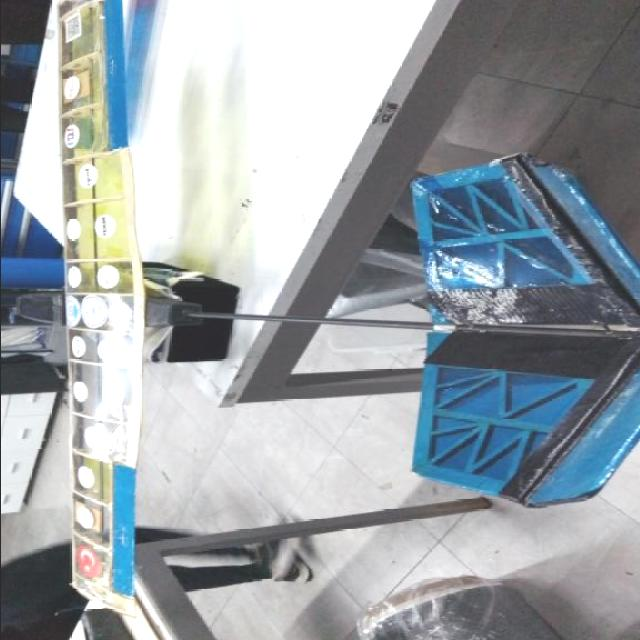plane: (11, 0, 640, 618)
